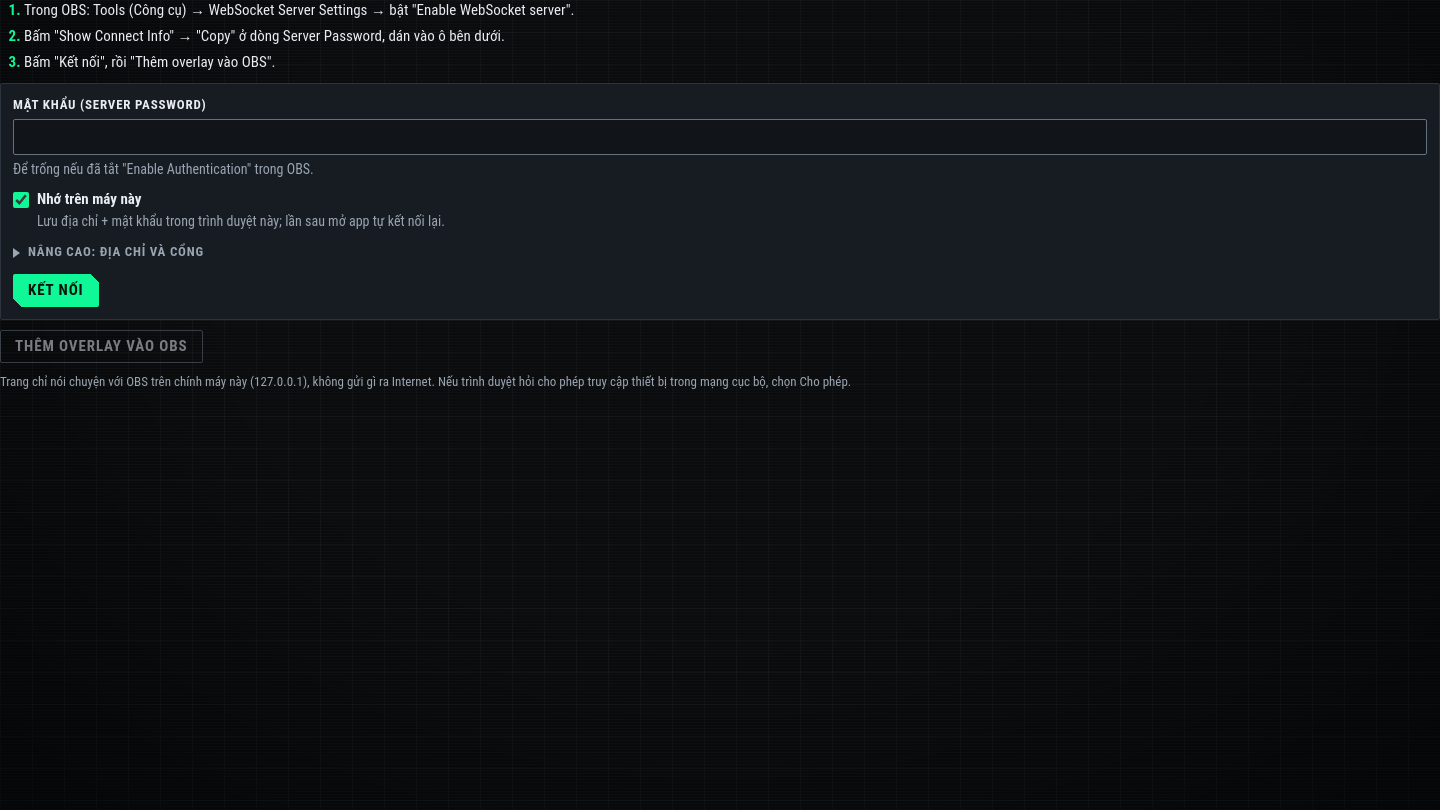
Test case: ObsConnectPanel › cổng ở mục nâng cao được dùng
Click the heading "Nâng cao: địa chỉ và cổng": click(108, 253) x1=13 y1=241 x2=204 y2=264
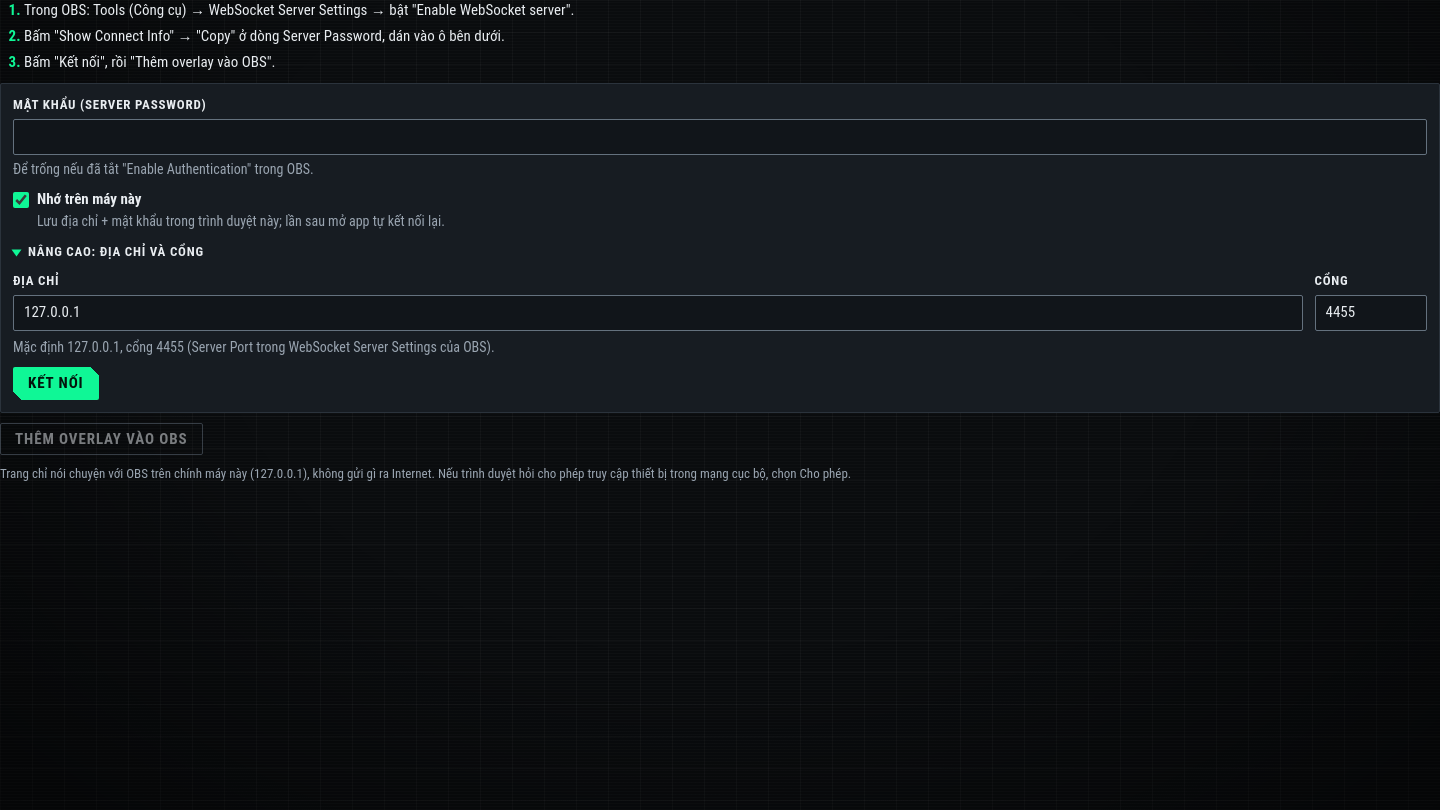
Replace the text in the number field labelled "Cổng" with "4460": (1371, 313) x1=1314 y1=295 x2=1427 y2=331
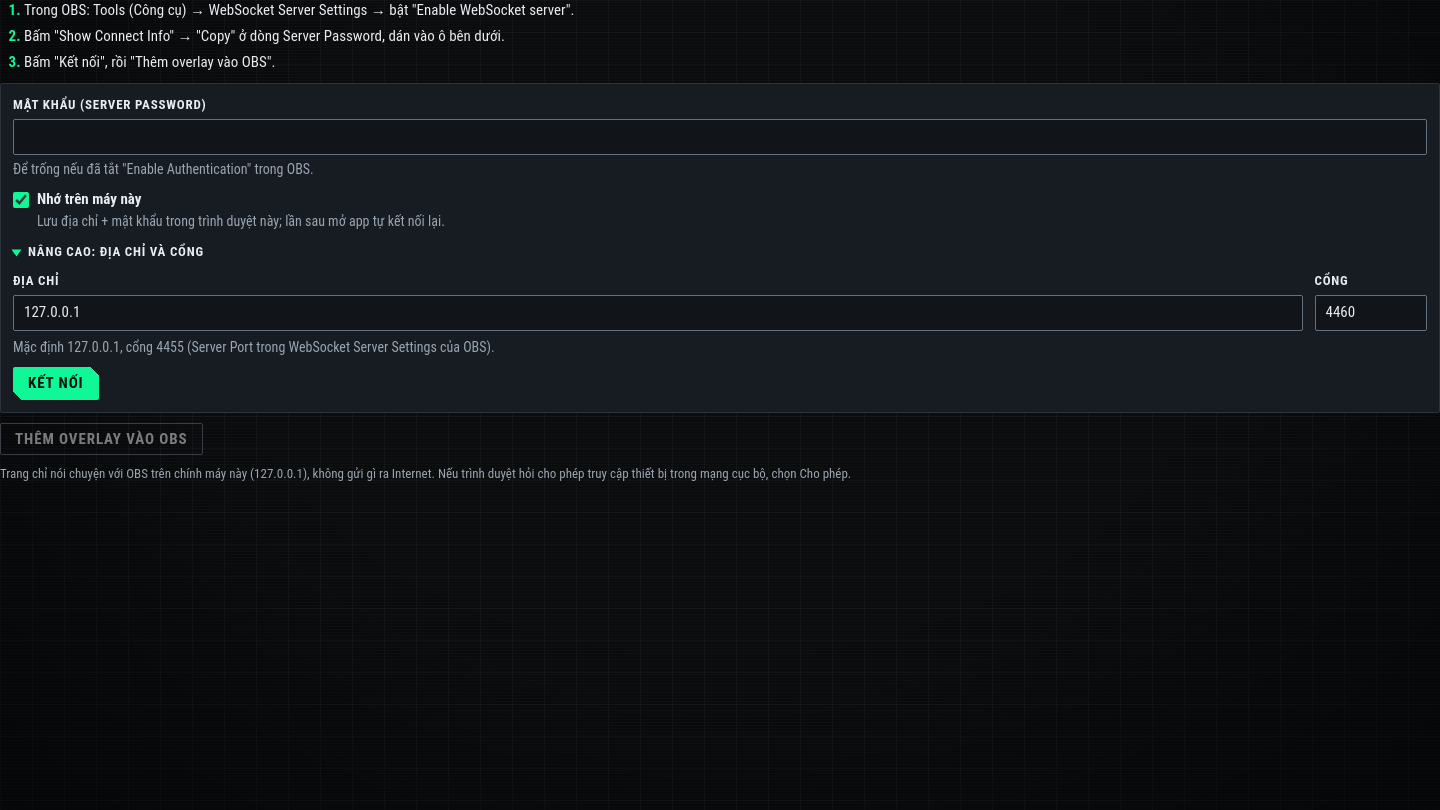
Click the button "Kết nối": click(56, 383) x1=13 y1=367 x2=99 y2=400
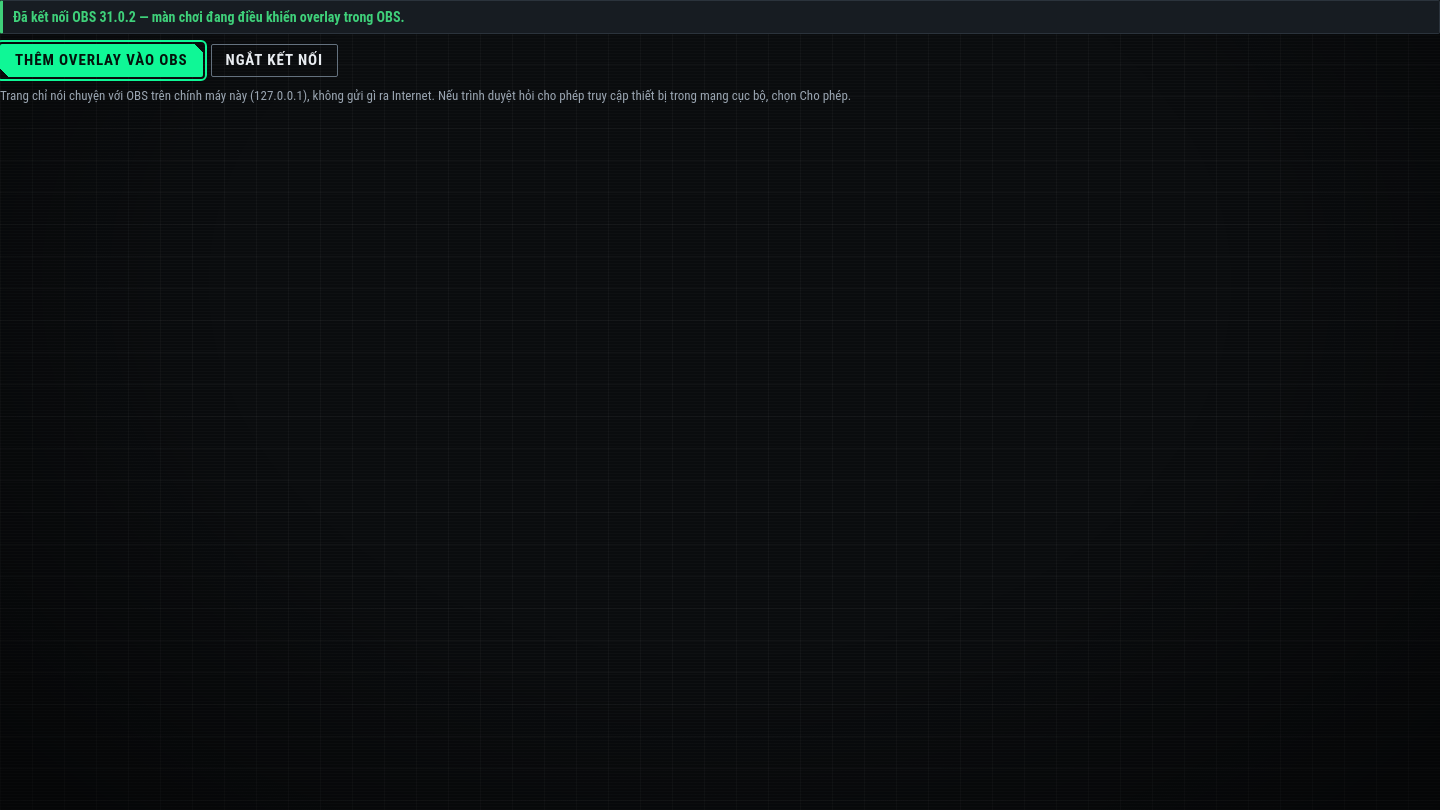
Expected: the text "Đã kết nối OBS" is shown, x1=13 y1=9 x2=404 y2=25
